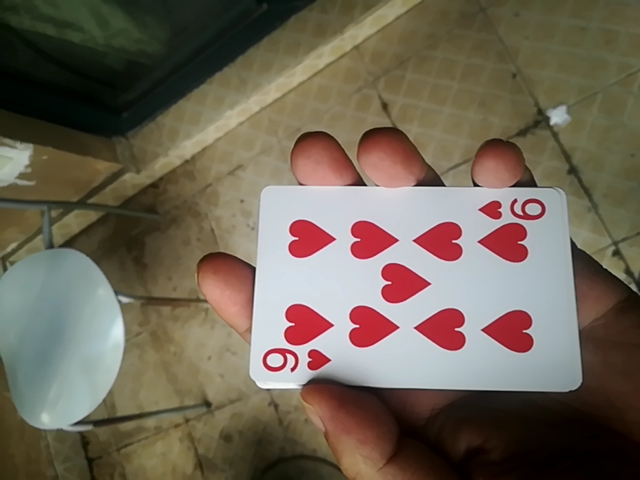hx 9: (243, 182, 580, 398)
